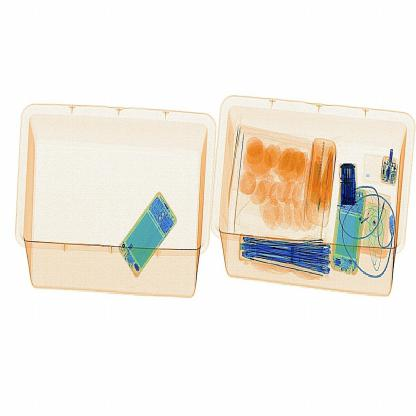scissors: (336, 160, 364, 211)
